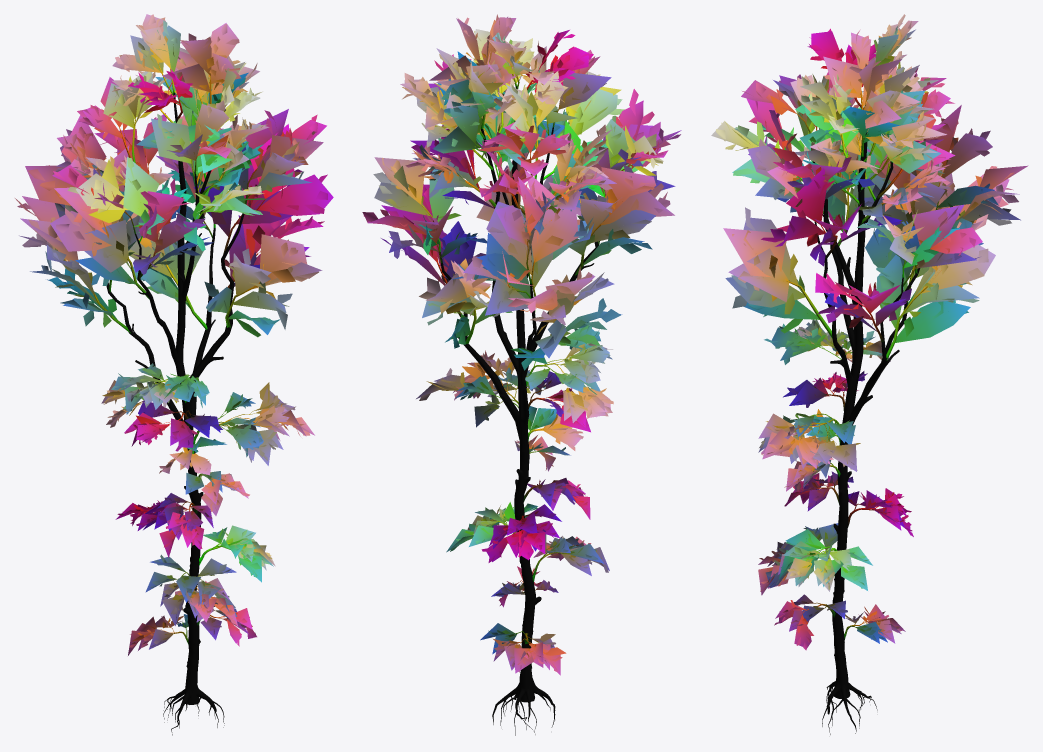
Rendered from SM_EuropeanBeech_XL_03.fbx.
3 renders of one model, left to right at view 1: azimuth 30°, elevation 25°; view 2: azimuth 150°, elevation 25°; view 3: azimuth 270°, elevation 25°, orthographic. The views are drawn at different scales.
Parts seen in each view (by area): view 1: SM_EuropeanBeech_XL_03_LOD0; view 2: SM_EuropeanBeech_XL_03_LOD0; view 3: SM_EuropeanBeech_XL_03_LOD0.
Part boxes in pixels (left/top/right/bottom): SM_EuropeanBeech_XL_03_LOD0: left=15, top=14, right=333, bottom=735; SM_EuropeanBeech_XL_03_LOD0: left=362, top=14, right=681, bottom=735; SM_EuropeanBeech_XL_03_LOD0: left=711, top=14, right=1028, bottom=734.
Bounding box in the file's own units: 992 × 1009 × 2459.
